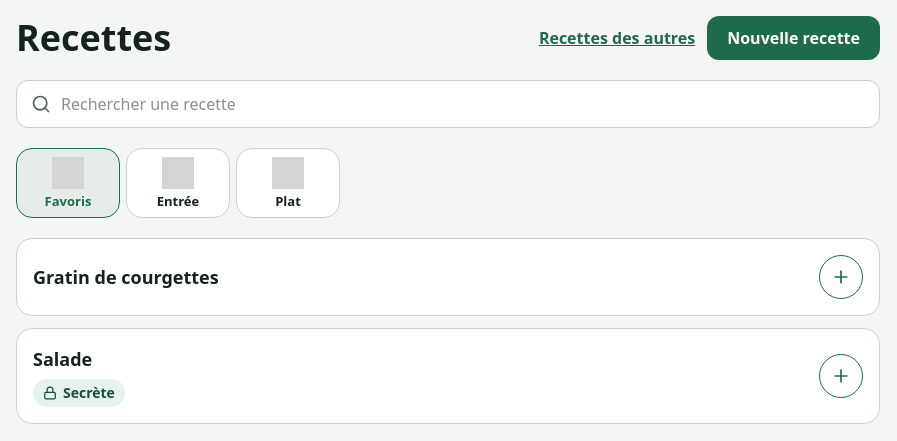
Test: le type « Favoris » de la liste des recettes › laisse la recette favorite aussi dans son type
Click the button "Plat" at (288, 183), box [236,148,340,218]
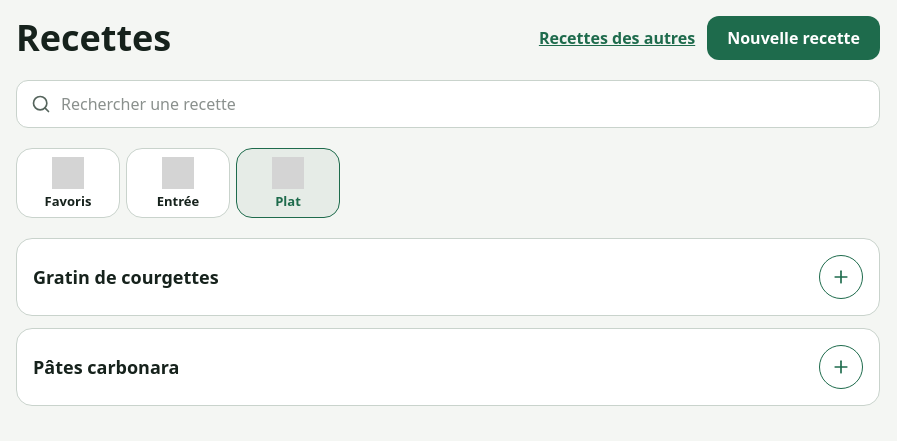
Now the text "Pâtes carbonara" is shown, box [33,355,180,379]
